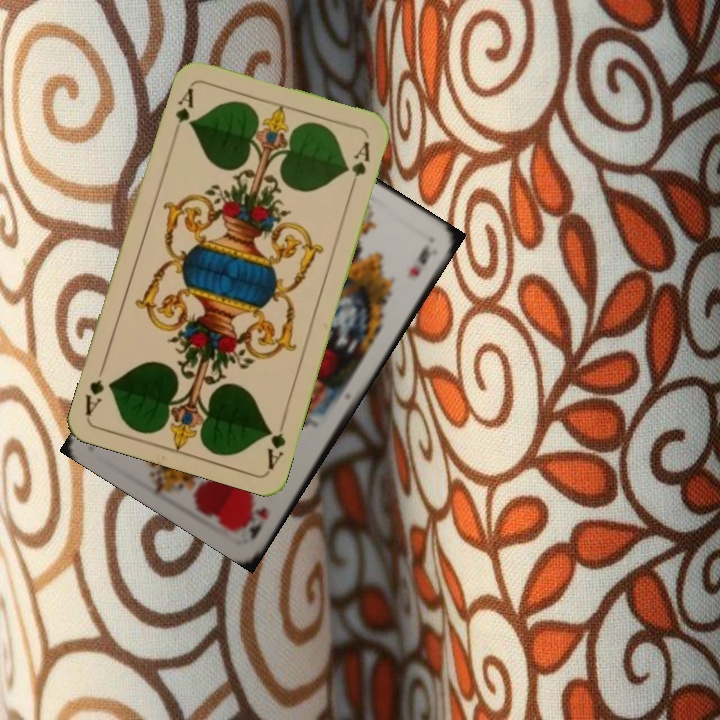GA: (169, 83, 196, 140), (263, 413, 289, 472)
HK: (239, 503, 271, 542)
